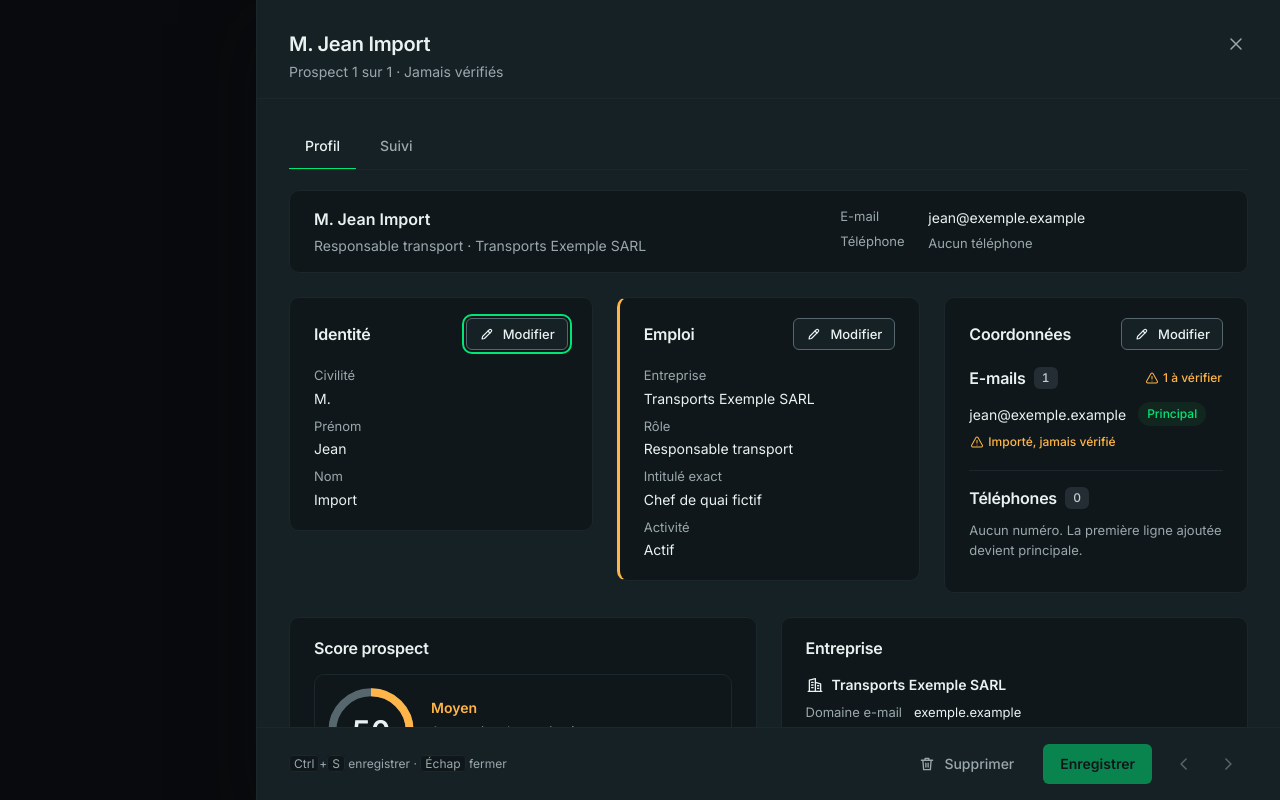
Prospect editor › shows the provenance and the latest saves with who made them
Expected: the element "Identité" is shown, [289,297,593,530]
What coordinates should you click on to do the following:
click the tab "Suivi"
I would click on:
 (396, 146)
Its box is [364,123,429,170].
(page scrolled)
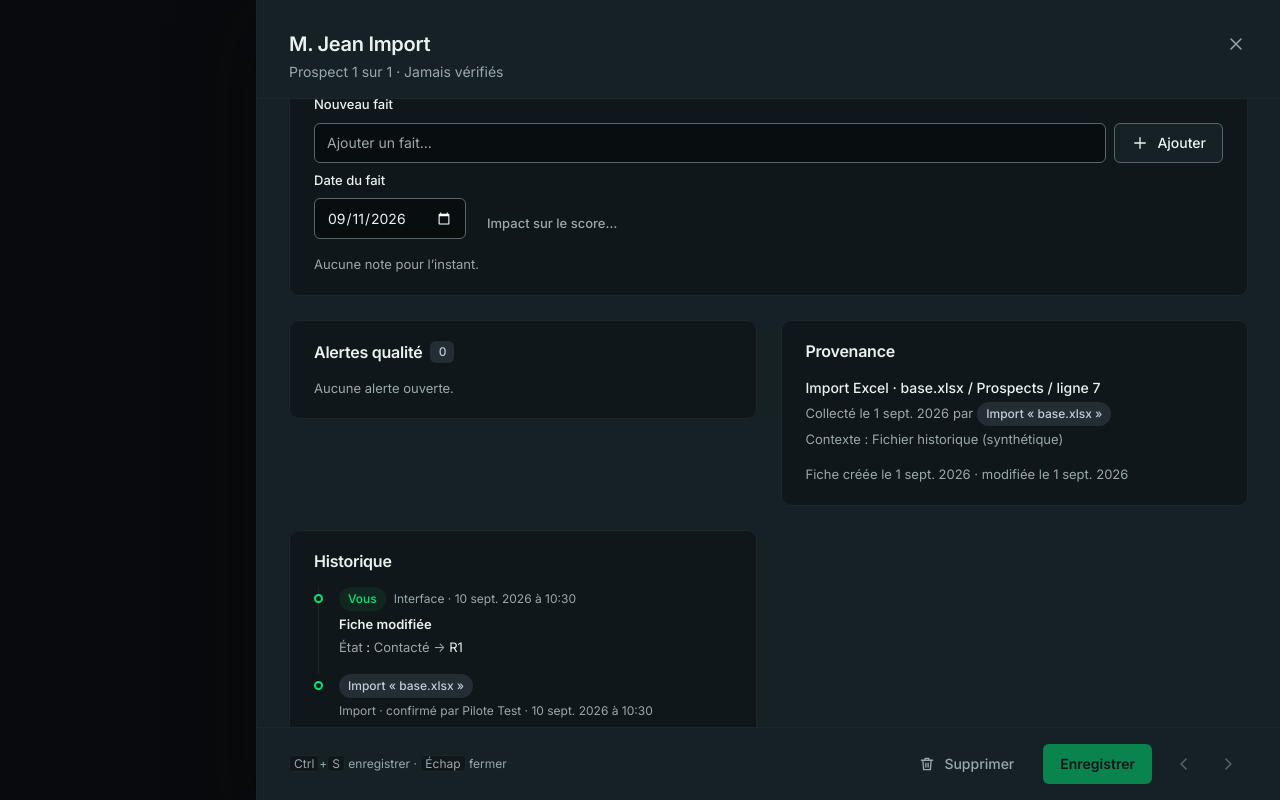
Now the element "Provenance" shows "par Import « base.xlsx »", box [780,320,1248,506]
Now the element "Provenance" shows "Contexte : Fichier historique (synthétique)", box [806,430,1063,446]
